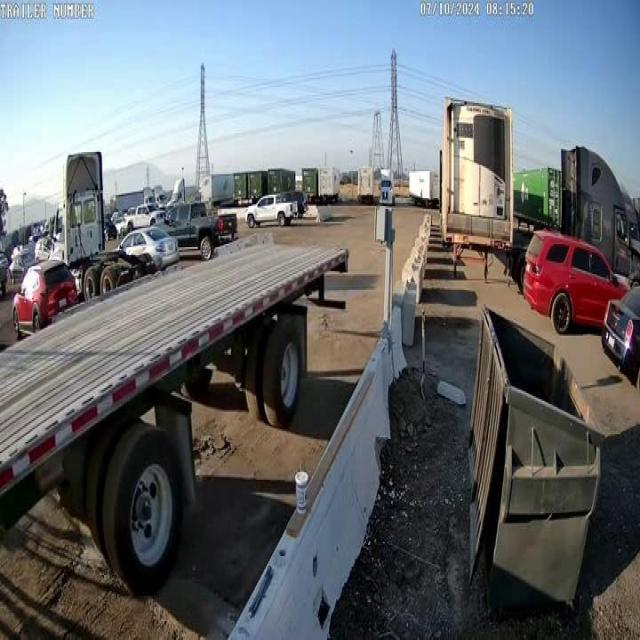TRUCK_OUT: (0, 240, 356, 576)
